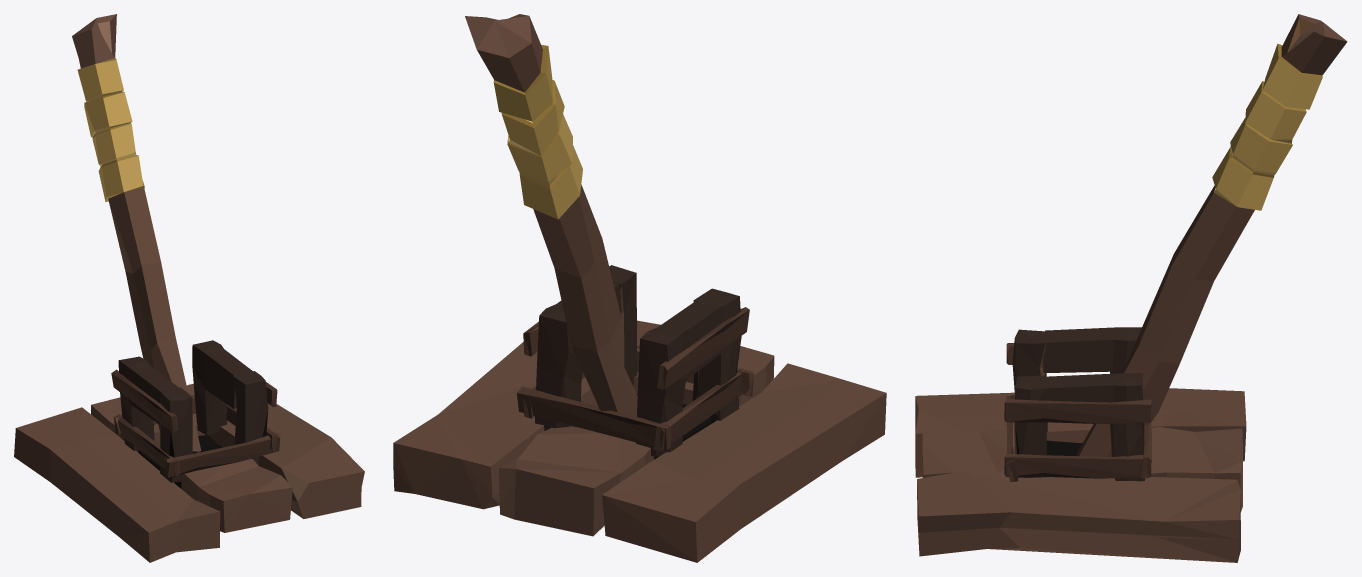
The model's file is Lever_Pirates.glb.
3 views of the same model, side by side, from view 1: azimuth 30°, elevation 25°; view 2: azimuth 150°, elevation 25°; view 3: azimuth 270°, elevation 25° (orthographic). The views are drawn at different scales.
Parts seen in each view (by area): view 1: Lever_Base, Lever; view 2: Lever_Base, Lever; view 3: Lever_Base, Lever.
Part boxes in pixels (x1=…): Lever_Base: x1=14, y1=340, x2=364, y2=562; Lever: x1=72, y1=14, x2=201, y2=452; Lever_Base: x1=393, y1=265, x2=886, y2=562; Lever: x1=465, y1=14, x2=637, y2=416; Lever_Base: x1=915, y1=327, x2=1246, y2=562; Lever: x1=1076, y1=14, x2=1347, y2=456.
Size of what is drawn, in the model's own units: 0.6757 by 1.15 by 0.9314.
1 material, 1 textured.
